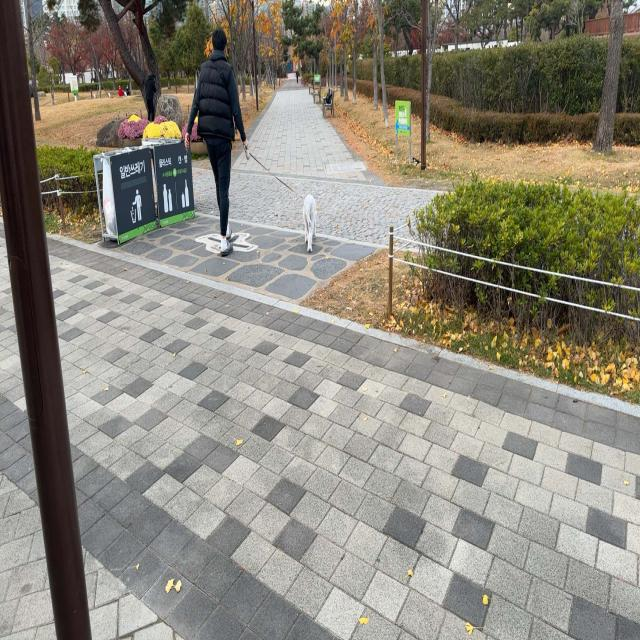Leashed_Dog: (218, 134, 317, 252)
